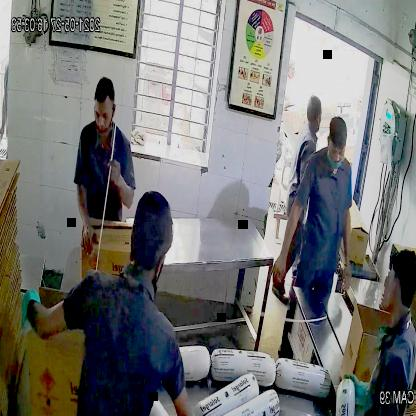no_goggles: (90, 105, 118, 126)
